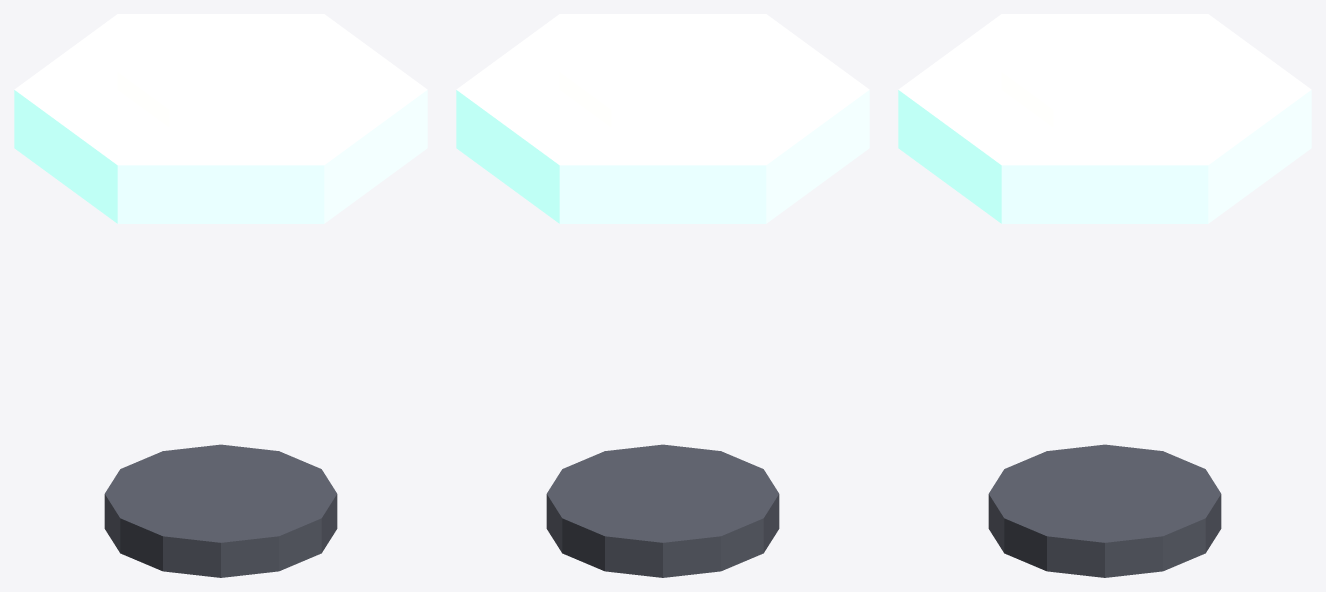
The model's file is Pickup_Escudo.fbx.
The picture shows the model from 3 angles, left to right: view 1: azimuth 30°, elevation 25°; view 2: azimuth 150°, elevation 25°; view 3: azimuth 270°, elevation 25°; orthographic projection.
Visible parts, largest first — view 1: Pickup_Escudo; view 2: Pickup_Escudo; view 3: Pickup_Escudo.
Boxes of the visible parts, x1,y1,x2,y2 form: Pickup_Escudo: (14,14,427,577); Pickup_Escudo: (456,14,869,577); Pickup_Escudo: (898,14,1311,577).
Bounding box in the file's own units: 0.5543 × 0.78 × 0.64.
